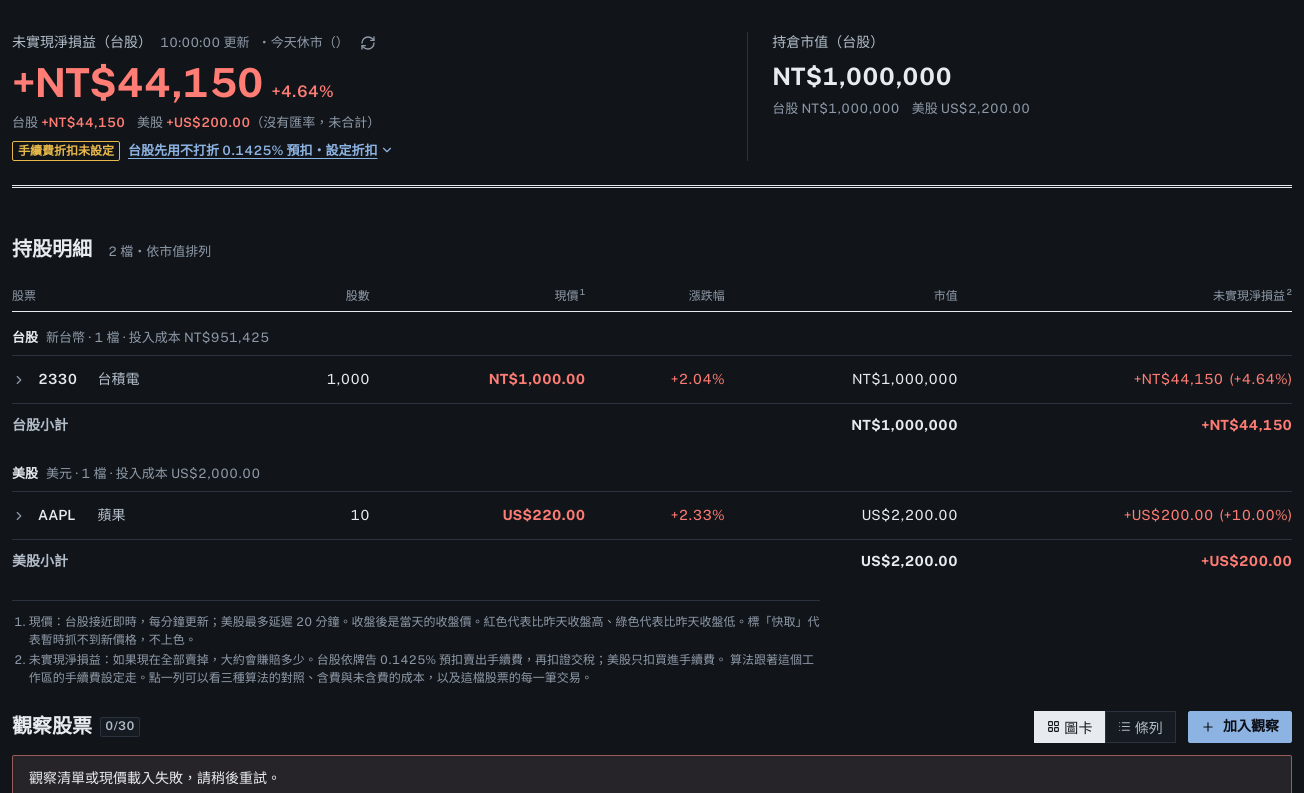
Test: DashboardPage › 點擊台股持股列展開明細，明細裡的「個股分析」帶入代號與名稱
The image size is (1304, 793).
Click the row with test id "holding-row-2330": (652, 380) [12,356,1292,404]
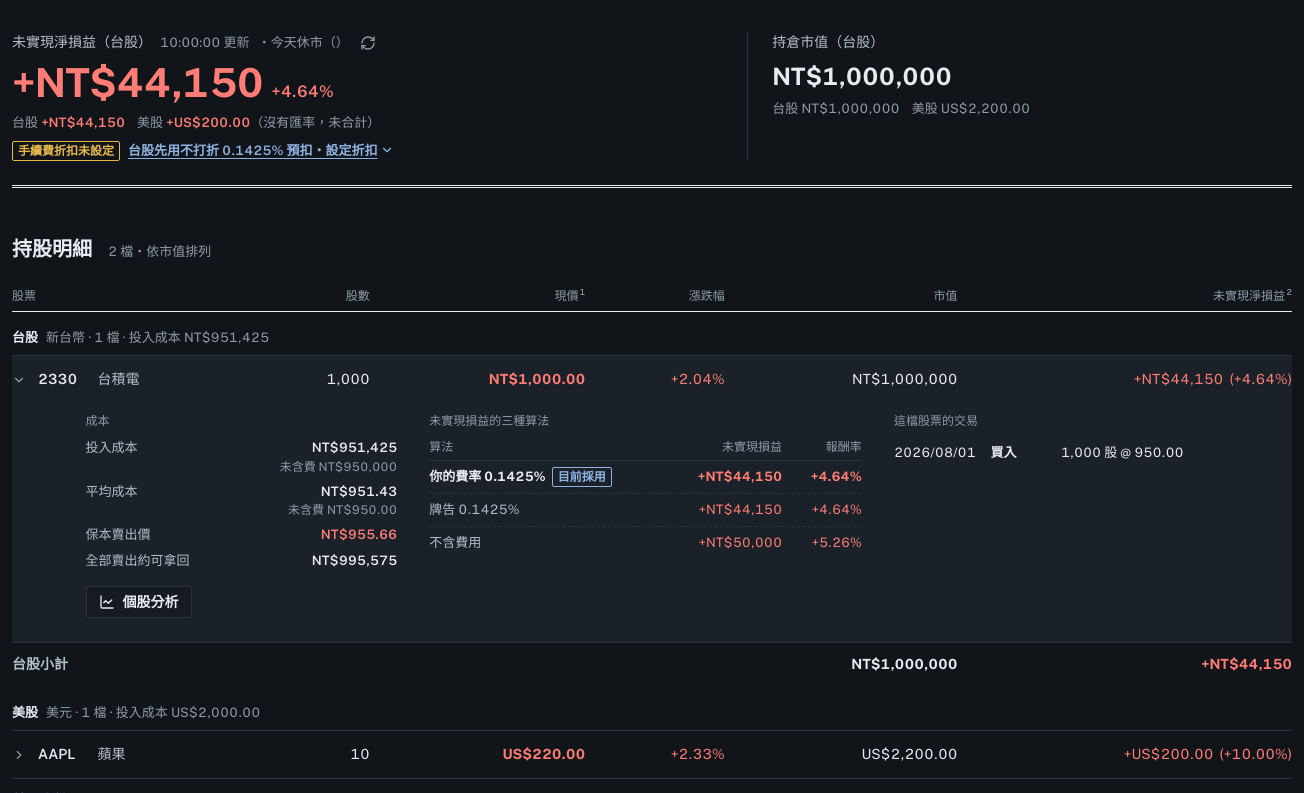
Result: the button "2330 台積電" is expanded at [12,369,140,390]
Click the button "個股分析": (139, 602) [86,586,192,618]
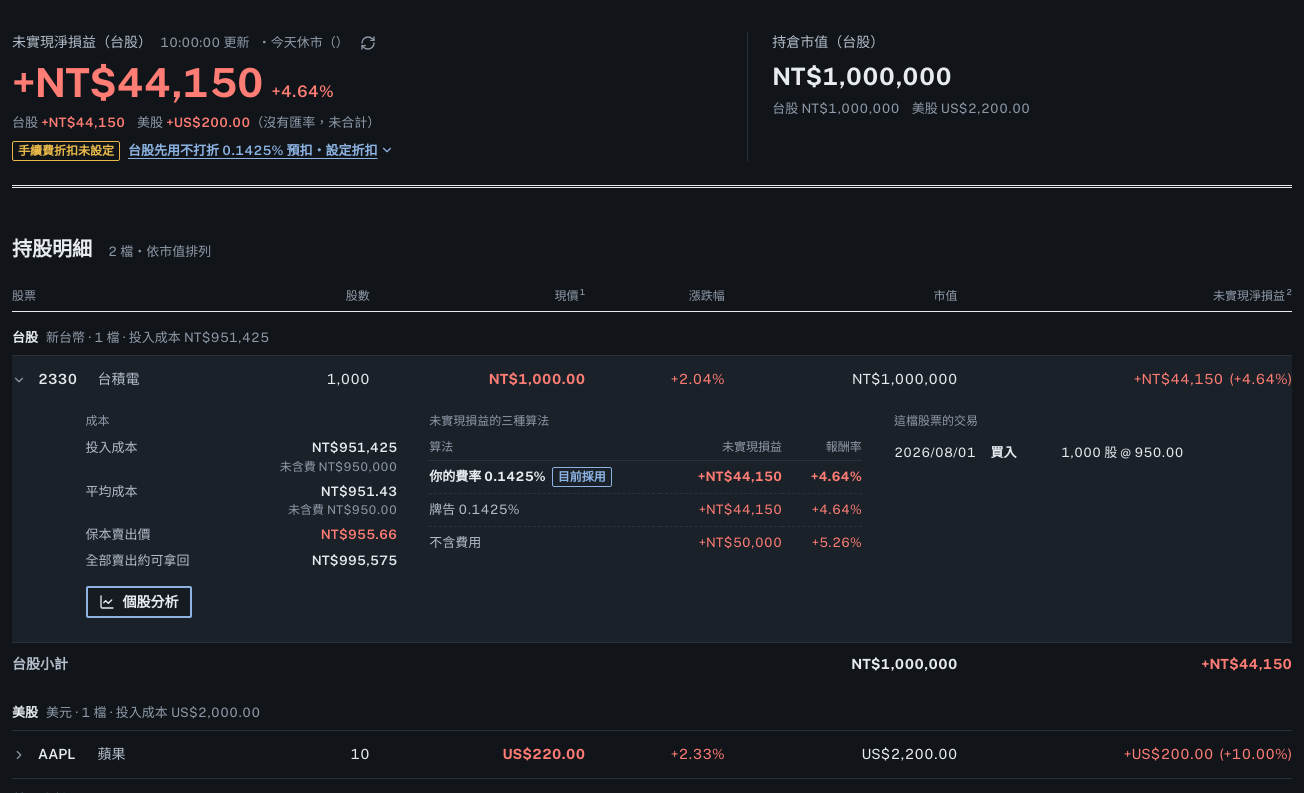
Note: Clicking the row again folds it.
Click the button "2330 台積電": (76, 380) [12,369,140,390]
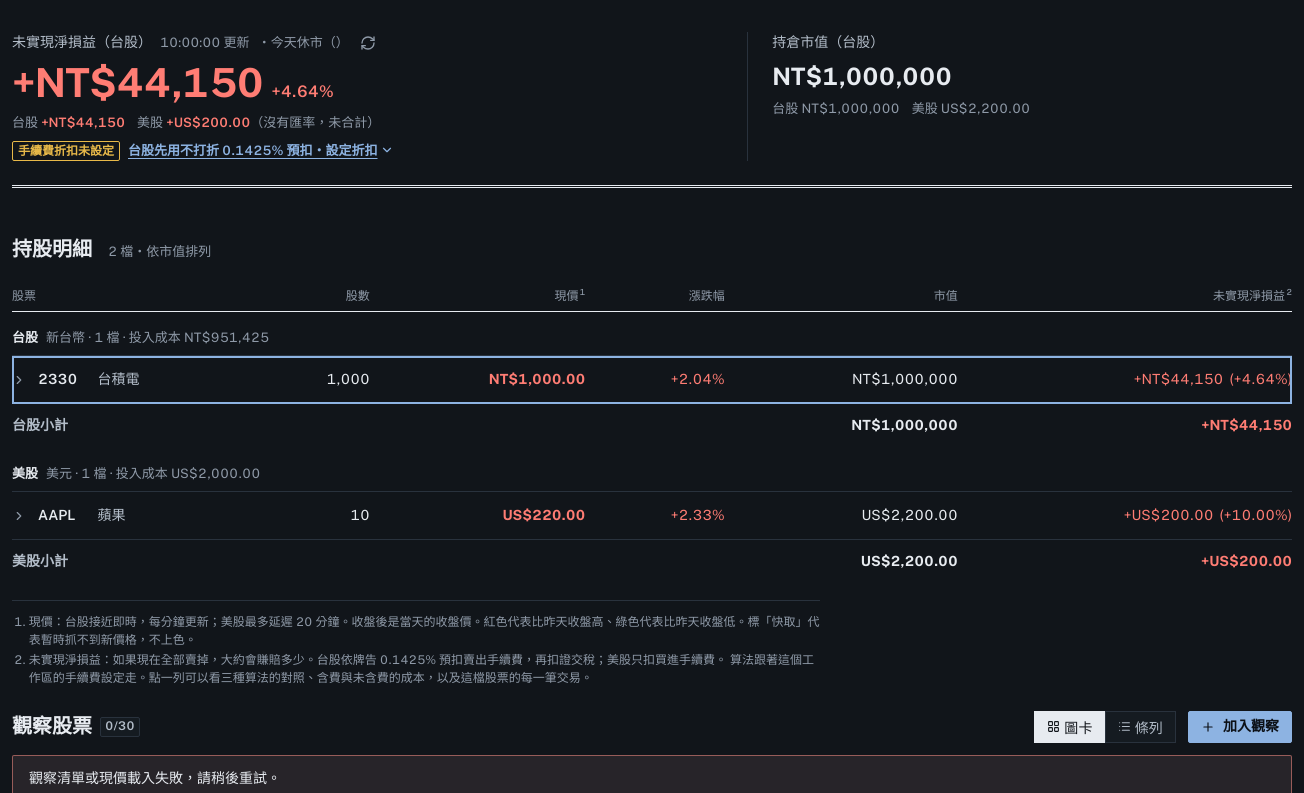
Result: the button "2330 台積電" is collapsed at [12,369,140,390]
Result: the button "個股分析" is gone
